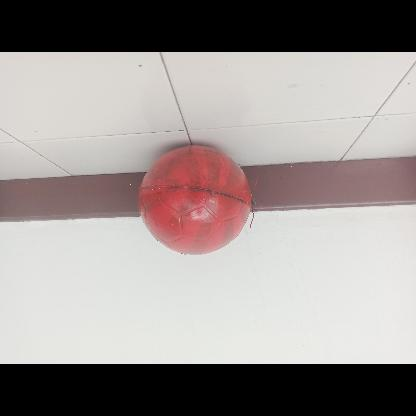red_ball: (138, 146, 250, 260)
